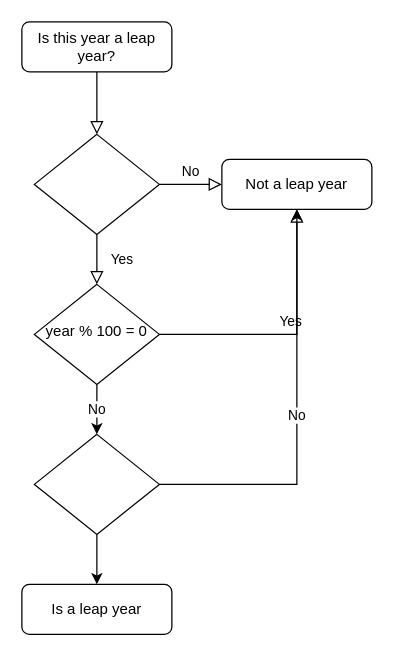
This 394x656 diagram has some shape labels left out. The centre of each missing label's shape, as x and y in pixels:
"year % 4 = 0" goes at point 96,183.
"year % 400 = 0" goes at point 96,483.
